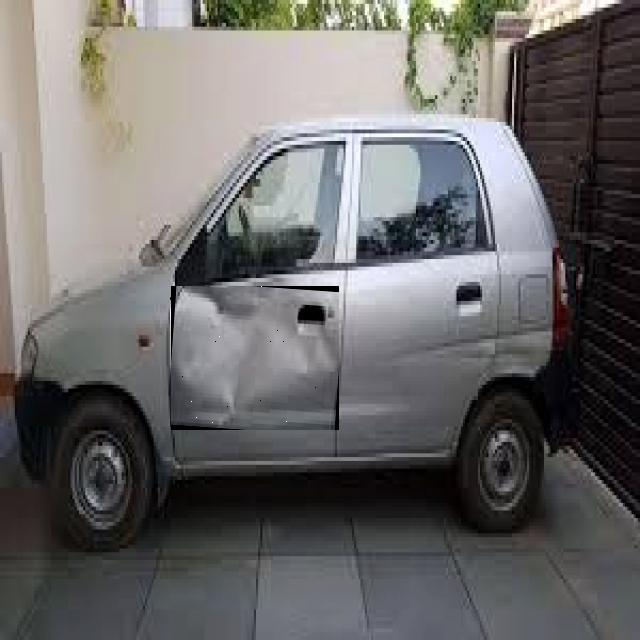Dent: (171, 286, 338, 427), (170, 297, 248, 426)
